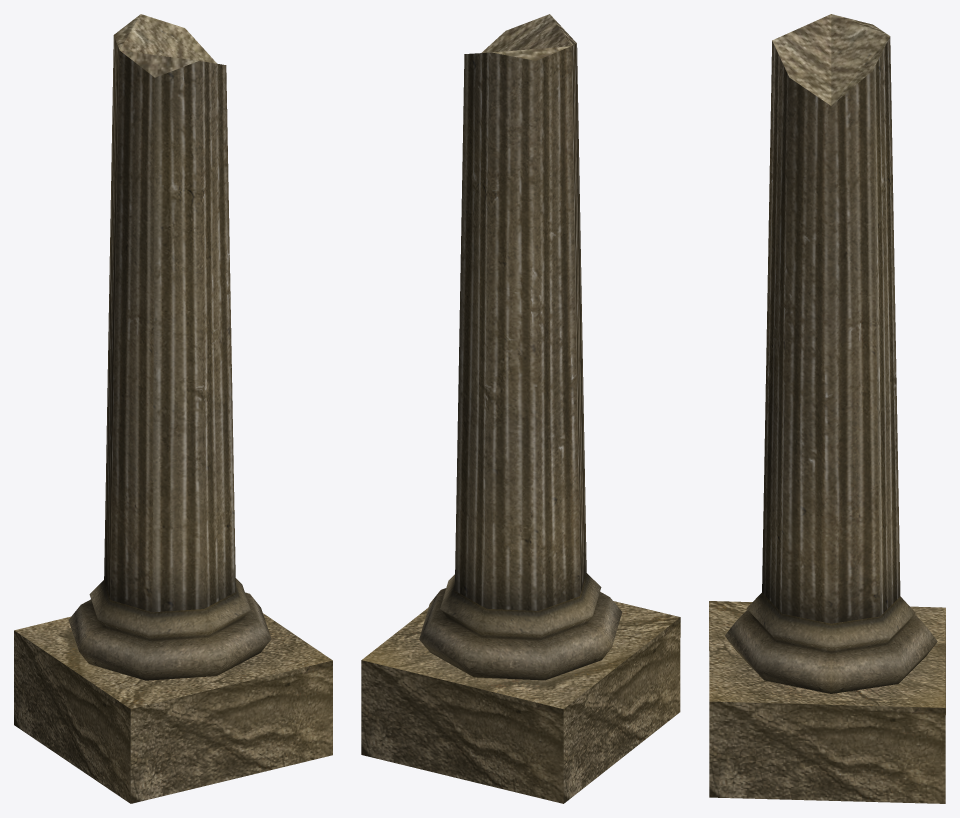
The model's file is cot2.fbx.
3 views of the same model, side by side, from view 1: azimuth 30°, elevation 25°; view 2: azimuth 150°, elevation 25°; view 3: azimuth 270°, elevation 25° (orthographic).
Parts seen in each view (by area): view 1: Object066; view 2: Object066; view 3: Object066.
Boxes of the visible parts, bbox=[...] form: Object066: bbox=[14, 14, 332, 803]; Object066: bbox=[361, 14, 680, 803]; Object066: bbox=[709, 14, 945, 803].
Size of the model in its own units: 248 by 829 by 248.
1 material, 1 textured.
